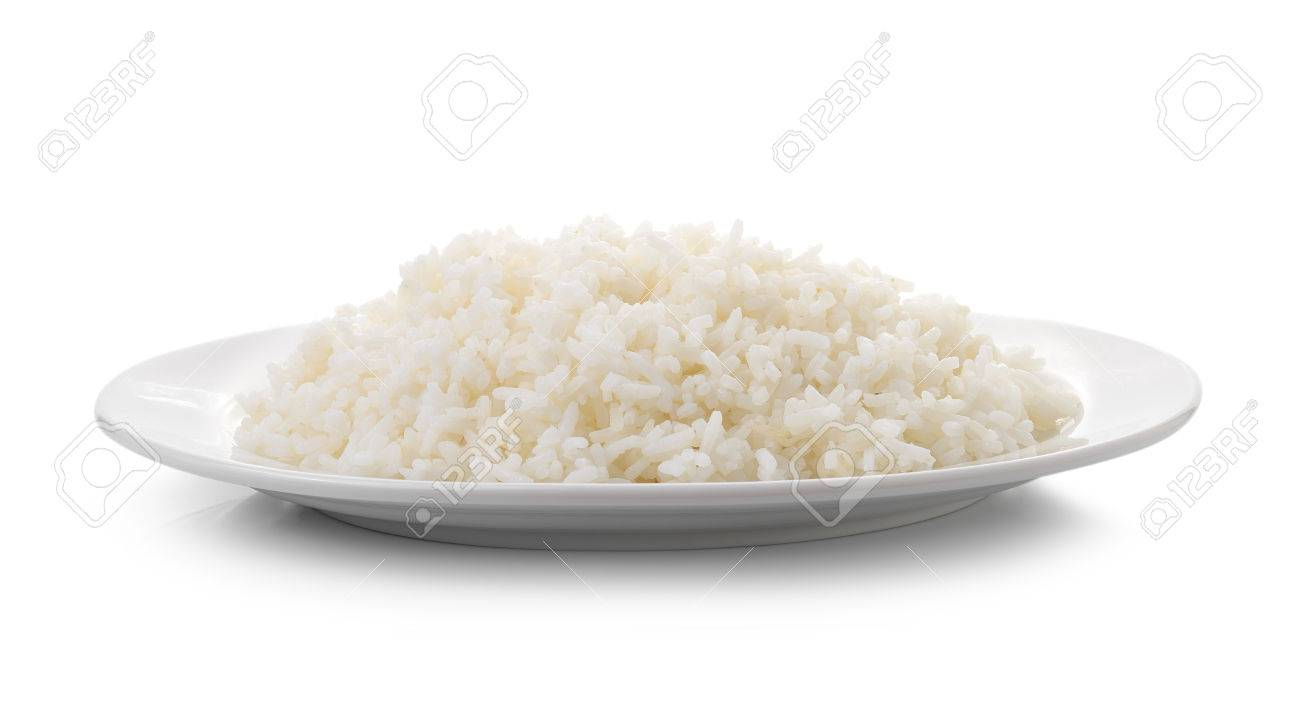rice: (229, 204, 1096, 487)
